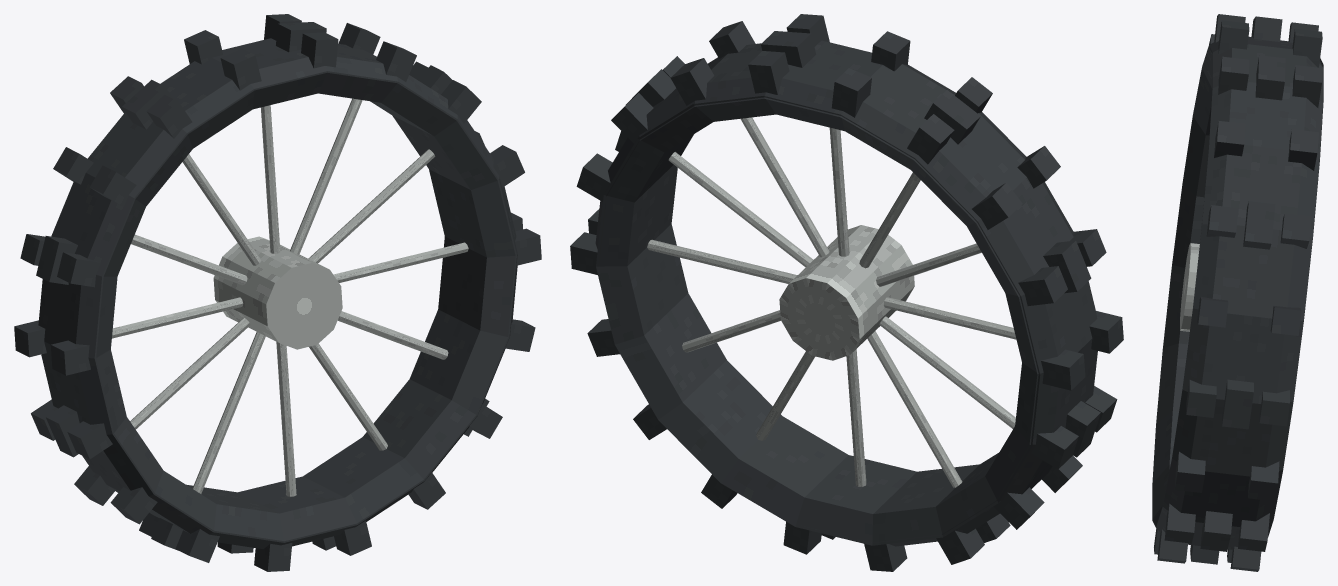
The model's file is wheel_bicycle_or.glb.
3 renders of one model, left to right at view 1: azimuth 30°, elevation 25°; view 2: azimuth 150°, elevation 25°; view 3: azimuth 270°, elevation 25°, orthographic. The views are drawn at different scales.
Visible parts, largest first — view 1: block_wheel cross section, block_raised off-road stud (×22), block_radial spoke (×12), block_wheel hub, block_center block (×4); view 2: block_wheel cross section, block_raised off-road stud (×25), block_radial spoke (×12), block_wheel hub, block_center block (×5); view 3: block_wheel cross section, block_raised off-road stud (×20), block_center block (×6), block_wheel hub.
Part boxes in pixels (box(x1,y1,x2,y2)): block_wheel cross section: box(38, 38, 517, 548); block_raised off-road stud (×22): box(14, 23, 541, 571); block_radial spoke (×12): box(112, 98, 468, 496); block_wheel hub: box(213, 236, 342, 349); block_center block (×4): box(36, 22, 326, 457); block_wheel cross section: box(595, 40, 1097, 546); block_raised off-road stud (×25): box(570, 14, 1123, 571); block_radial spoke (×12): box(647, 117, 1016, 487); block_wheel hub: box(779, 225, 914, 360); block_center block (×5): box(626, 31, 1100, 457); block_wheel cross section: box(1152, 36, 1323, 549); block_raised off-road stud (×20): box(1157, 14, 1322, 571); block_center block (×6): box(1190, 16, 1285, 564); block_wheel hub: box(1180, 243, 1199, 331).
Bounding box in the file's own units: 0.6819 × 0.686 × 0.2119.
1 material, 1 textured.
